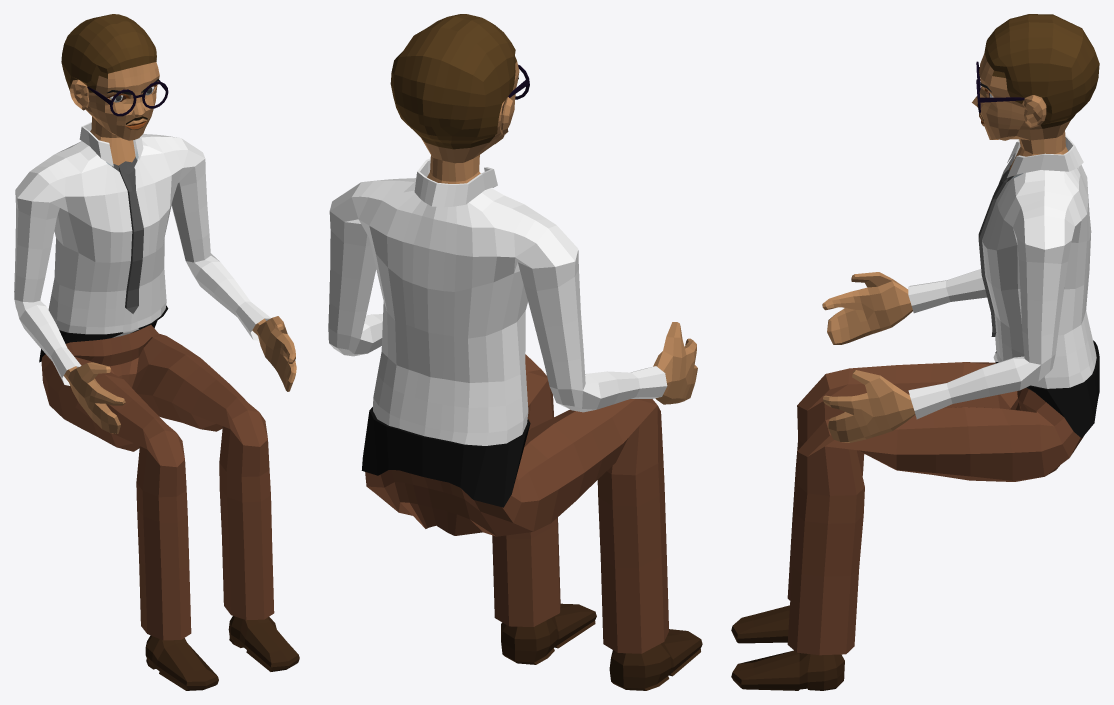
Rendered from TeacherMale_A_Sit.fbx.
The picture shows the model from 3 angles, left to right: view 1: azimuth 30°, elevation 25°; view 2: azimuth 150°, elevation 25°; view 3: azimuth 270°, elevation 25°; orthographic projection. The views are drawn at different scales.
Parts seen in each view (by area): view 1: TeacherMale_A_Sit; view 2: TeacherMale_A_Sit; view 3: TeacherMale_A_Sit.
Boxes of the visible parts, x1,y1,x2,y2 form: TeacherMale_A_Sit: (14,14,299,690); TeacherMale_A_Sit: (328,14,702,690); TeacherMale_A_Sit: (731,14,1099,690).
Size of the model in its own units: 0.2883 by 0.7301 by 0.3804.
